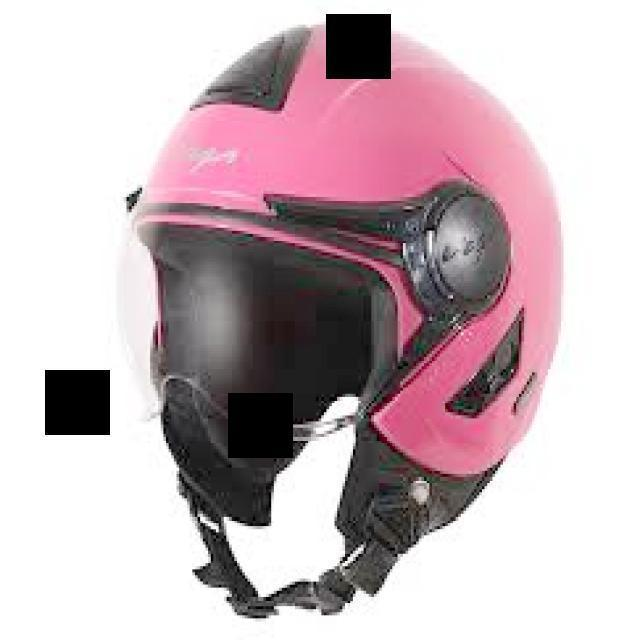helmet: (118, 14, 563, 617)
